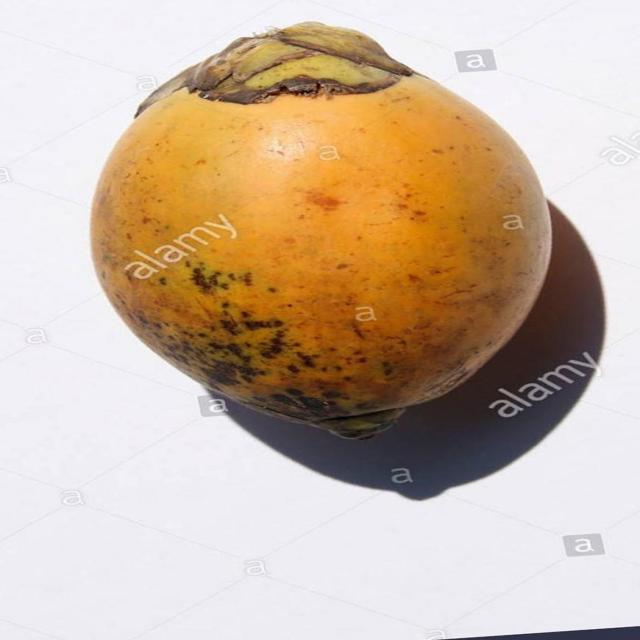good: (88, 20, 552, 442)
